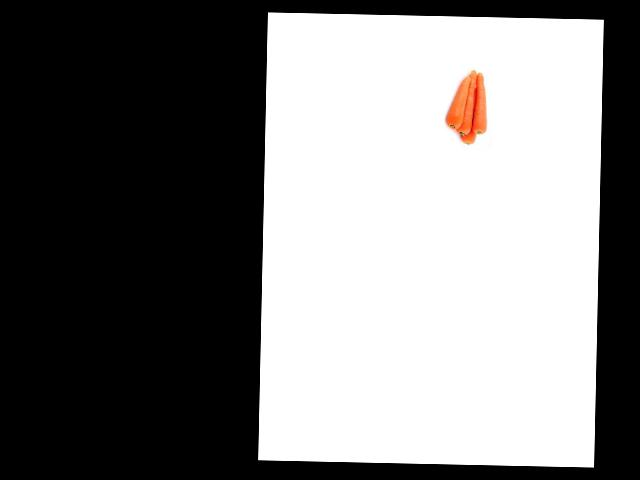carrot: (446, 73, 464, 131)
